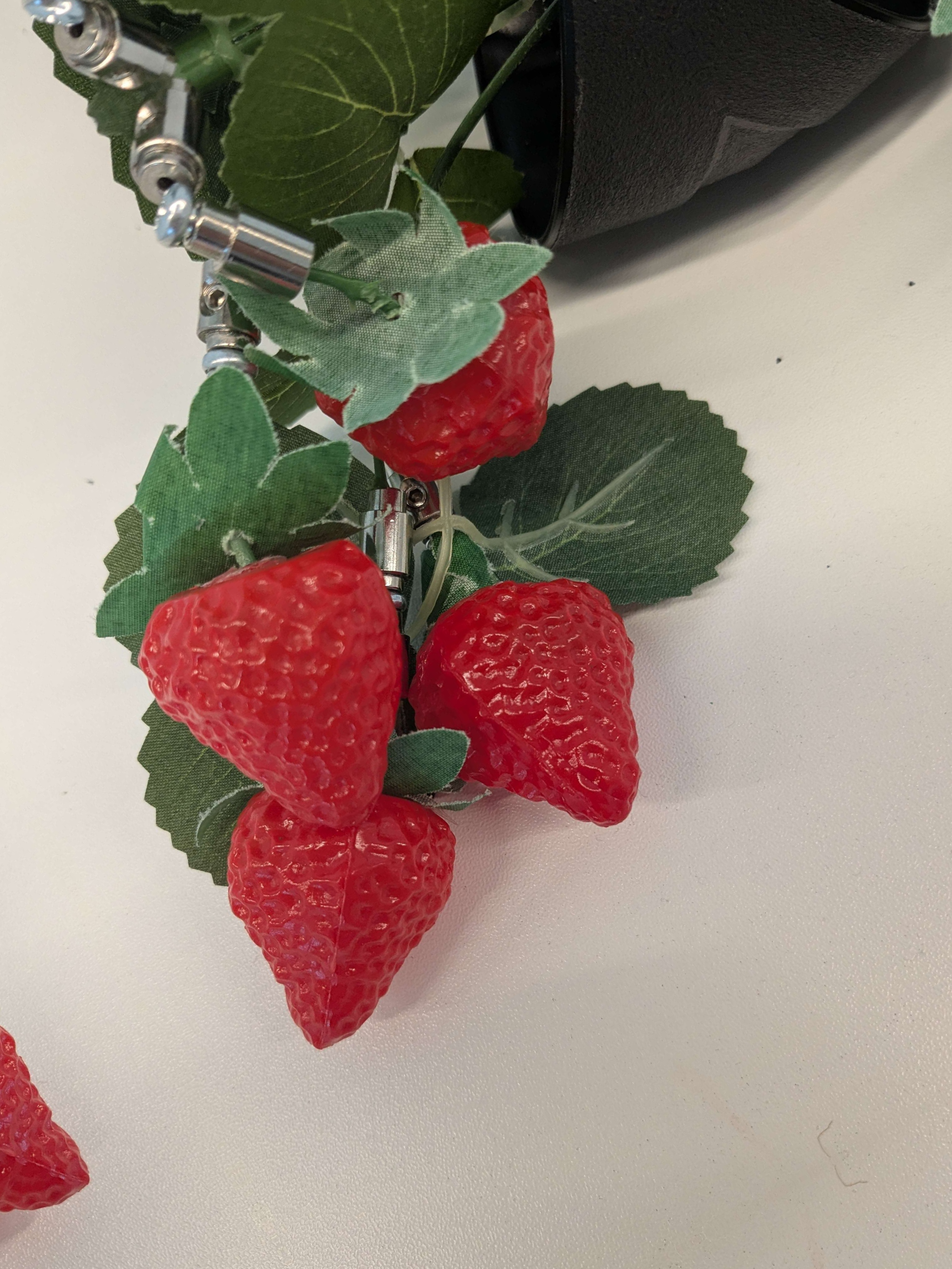Strawberry: (113, 491, 489, 891), (172, 713, 543, 1092), (243, 166, 608, 530), (376, 534, 714, 898)
